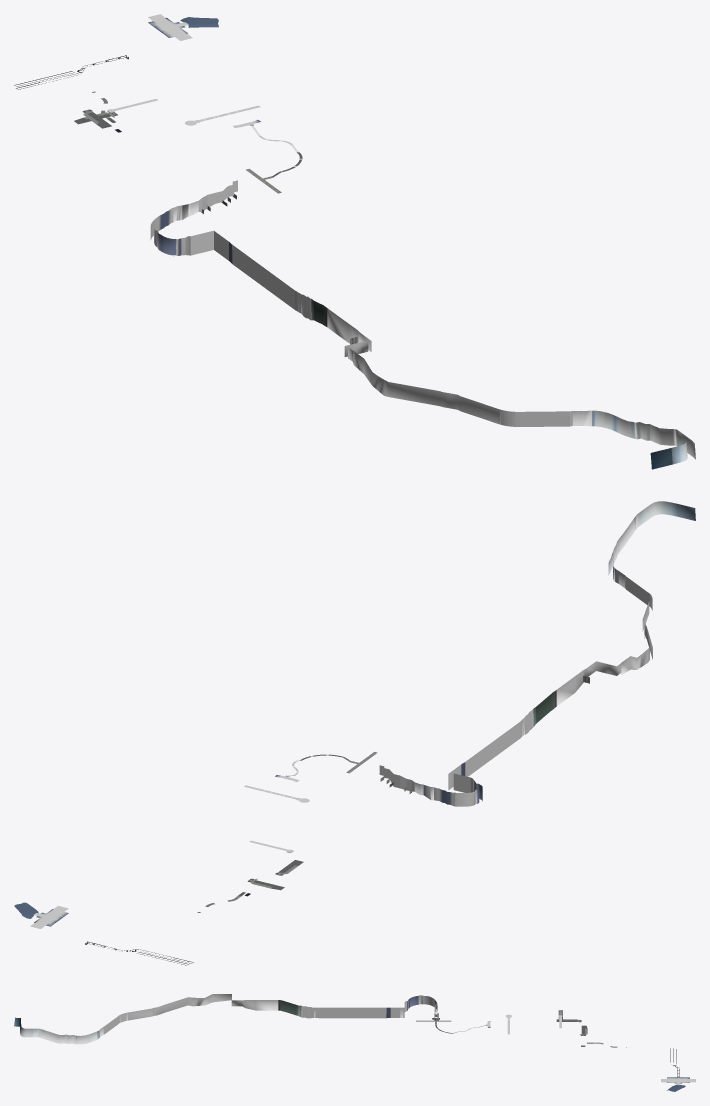
The model's file is Wall1.glb.
The picture shows the model from 3 angles, top to bottom: view 1: azimuth 30°, elevation 25°; view 2: azimuth 150°, elevation 25°; view 3: azimuth 270°, elevation 25°; orthographic projection. The views are drawn at different scales.
Visible parts, largest first — view 1: stg102_os01_Mesh_0012; view 2: stg102_os01_Mesh_0012; view 3: stg102_os01_Mesh_0012.
Part boxes in pixels (left/top/right/bottom): stg102_os01_Mesh_0012: left=150, top=180, right=695, bottom=469; stg102_os01_Mesh_0012: left=379, top=501, right=695, bottom=806; stg102_os01_Mesh_0012: left=14, top=994, right=438, bottom=1044.
Bounding box in the file's own units: 501 × 122 × 1832.
11 materials, 11 textured.
